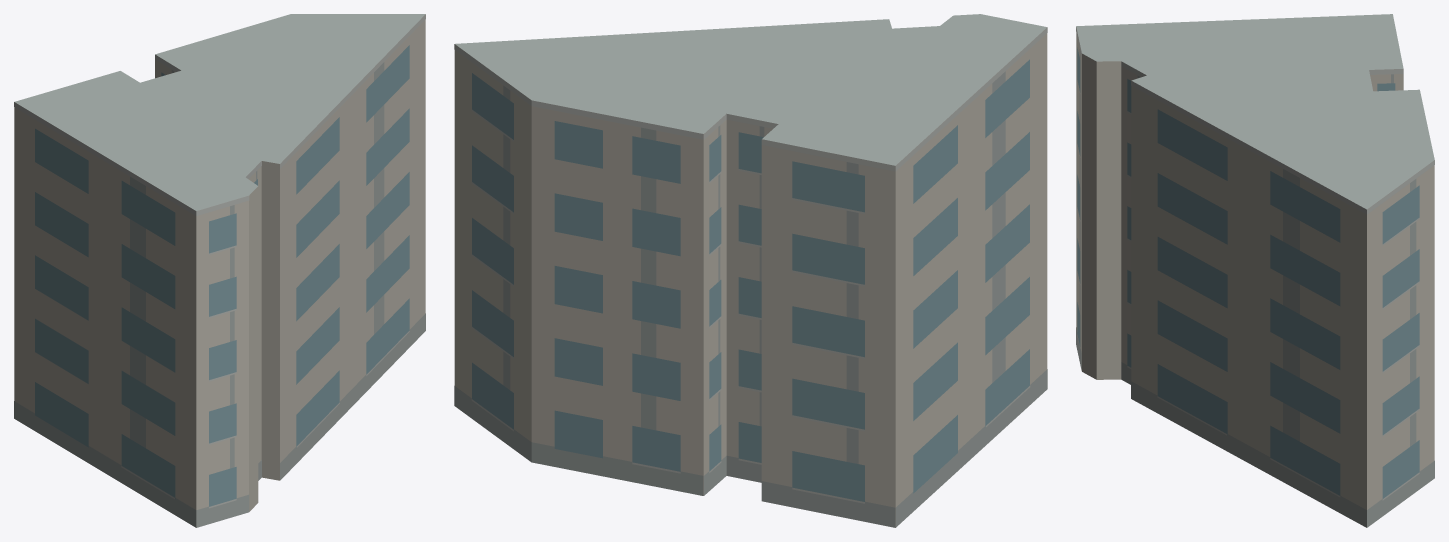
Rendered from survey-upis-32579088.glb.
The picture shows the model from 3 angles, left to right: view 1: azimuth 30°, elevation 25°; view 2: azimuth 150°, elevation 25°; view 3: azimuth 270°, elevation 25°; orthographic projection. The views are drawn at different scales.
Visible parts, largest first — view 1: survey-upis-32579088.tmp; view 2: survey-upis-32579088.tmp; view 3: survey-upis-32579088.tmp.
Boxes of the visible parts, bbox=[...] form: survey-upis-32579088.tmp: bbox=[14, 14, 425, 527]; survey-upis-32579088.tmp: bbox=[454, 14, 1047, 527]; survey-upis-32579088.tmp: bbox=[1076, 14, 1434, 527].
Bounding box in the file's own units: 20.1 × 15.25 × 15.58.
